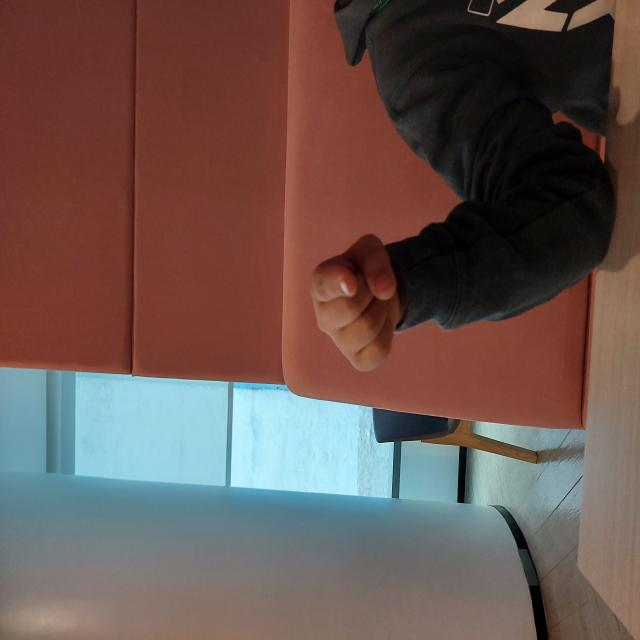Z: (261, 303, 414, 408)
